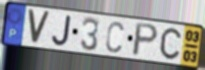3: (81, 15, 100, 52)
C: (159, 27, 182, 62), (105, 20, 125, 54)
J: (51, 14, 73, 48)
P: (130, 21, 160, 58)
V: (26, 8, 52, 46)
